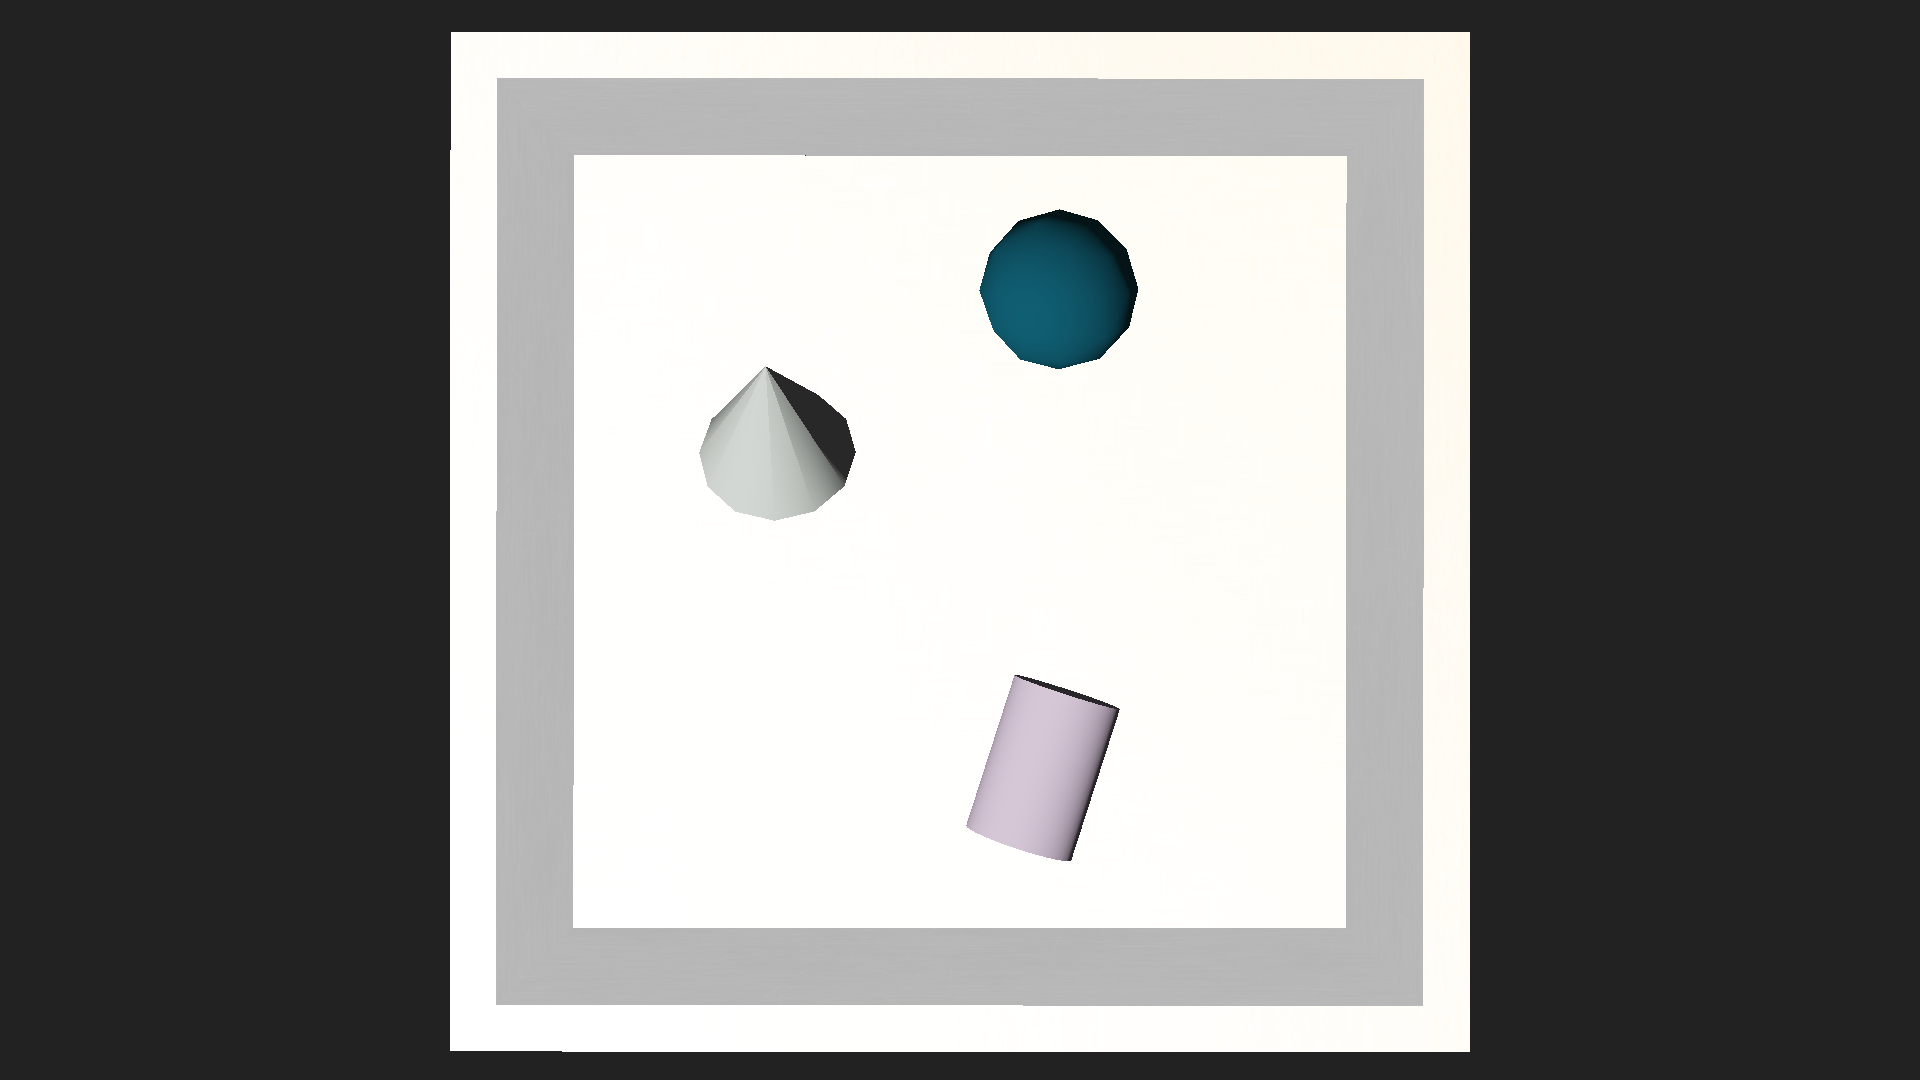cone: (965, 671, 1124, 866)
cylinder: (684, 295, 849, 514)
sphere: (978, 208, 1138, 369)
